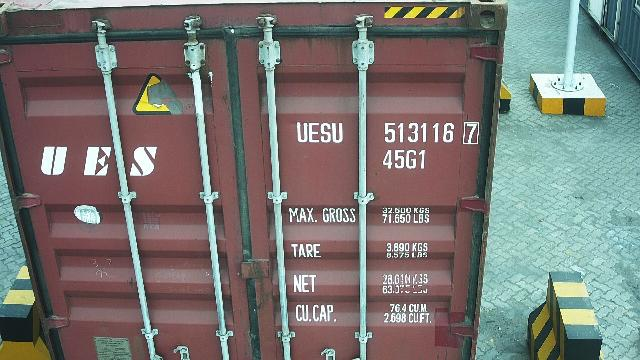1: (420, 122, 428, 144), (432, 122, 440, 144), (398, 122, 404, 144)
3: (408, 122, 418, 144)
5: (384, 122, 396, 144)
6: (443, 122, 455, 144)
7: (464, 122, 478, 144)
E: (309, 121, 319, 142)
S: (321, 122, 332, 144)
U: (296, 121, 308, 143), (331, 122, 343, 144)
